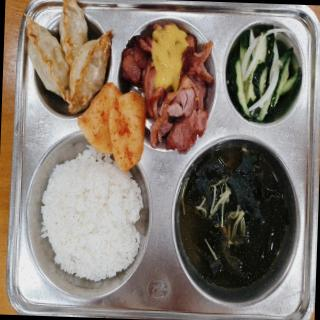Nasi: (46, 159, 143, 295)
